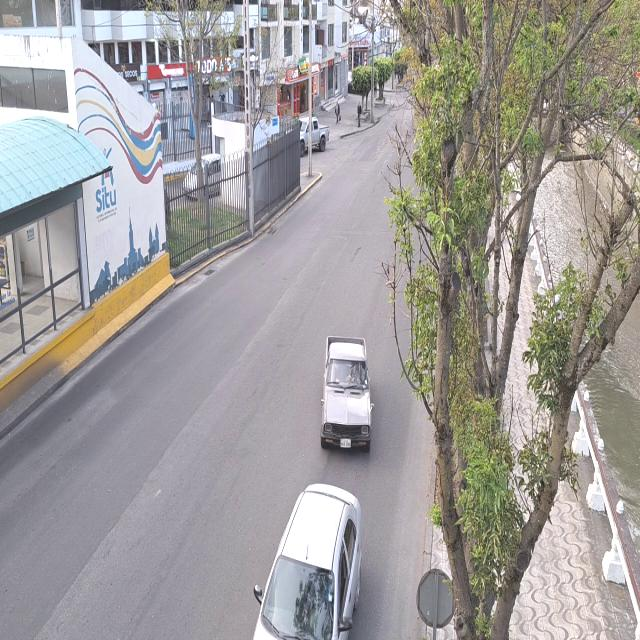CMT: (321, 331, 371, 454), (300, 114, 331, 153)
SED: (239, 466, 378, 639)
